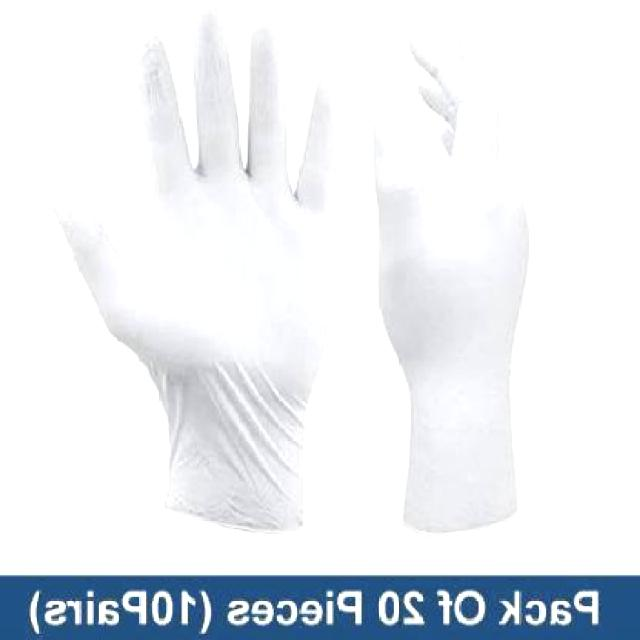glove: (50, 8, 353, 537), (372, 0, 540, 537)
